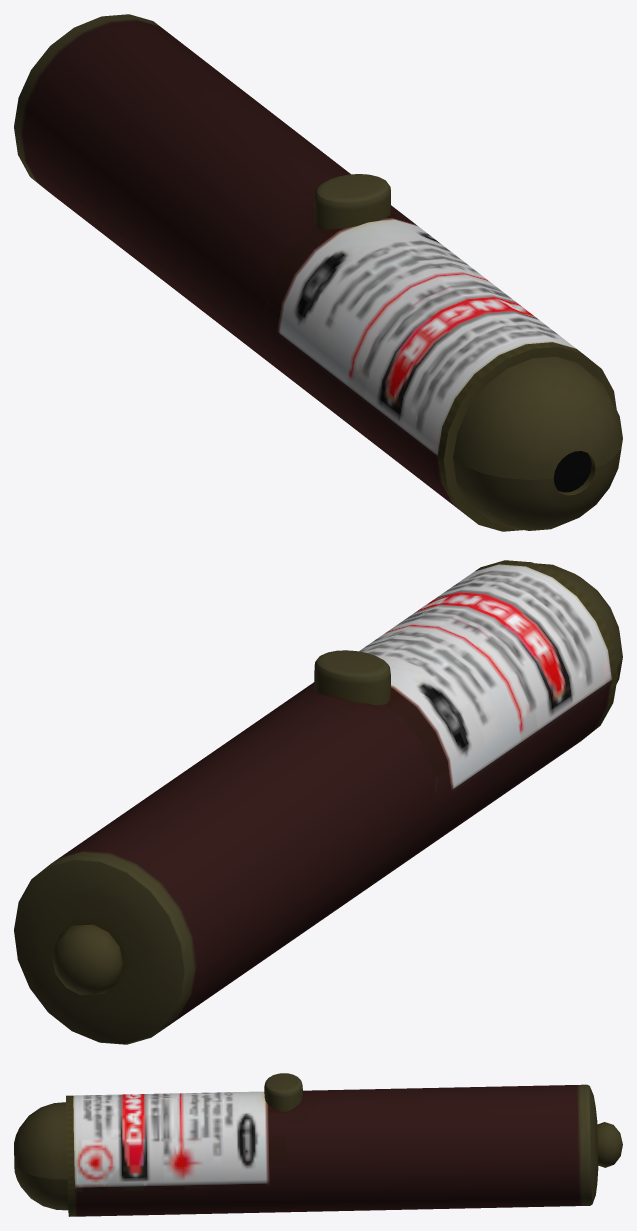
File: GTLaserPen.obj
The picture shows the model from 3 angles, top to bottom: view 1: azimuth 30°, elevation 25°; view 2: azimuth 150°, elevation 25°; view 3: azimuth 270°, elevation 25°; orthographic projection. The views are drawn at different scales.
Visible parts, largest first — view 1: jiguangbi; view 2: jiguangbi; view 3: jiguangbi.
Part boxes in pixels (bbox=[...]): jiguangbi: bbox=[14, 14, 622, 531]; jiguangbi: bbox=[14, 560, 622, 1044]; jiguangbi: bbox=[14, 1073, 622, 1216].
Bounding box in the file's own units: 0.3083 × 0.3625 × 1.54.
